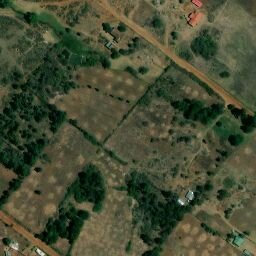tree: (228, 134, 243, 146), (151, 18, 163, 28), (138, 66, 149, 75), (219, 71, 231, 78), (2, 237, 11, 245), (117, 25, 125, 32), (34, 167, 43, 173), (33, 189, 42, 195), (168, 128, 175, 135), (141, 120, 148, 127), (215, 121, 223, 127), (170, 31, 178, 37), (206, 171, 214, 176), (200, 222, 206, 228), (170, 141, 176, 147), (215, 156, 221, 162), (65, 27, 71, 33), (75, 74, 81, 80), (68, 74, 74, 80), (86, 84, 92, 89), (94, 87, 100, 92), (172, 35, 178, 40), (66, 65, 72, 70), (195, 171, 200, 175), (231, 204, 236, 208), (76, 32, 81, 36), (59, 31, 64, 35), (153, 150, 157, 154), (180, 173, 184, 177), (126, 100, 131, 103), (184, 176, 189, 179)
